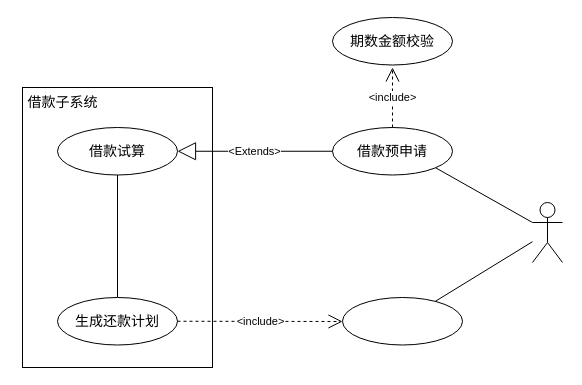
Some shapes in this 582 by 385 pixel diagram are drawn without their labels. Here are the shapes that lost their labels. From the top down, the centre of each, then its label:
pixel 547 232: 借款人
pixel 402 320: 查看还款计划
